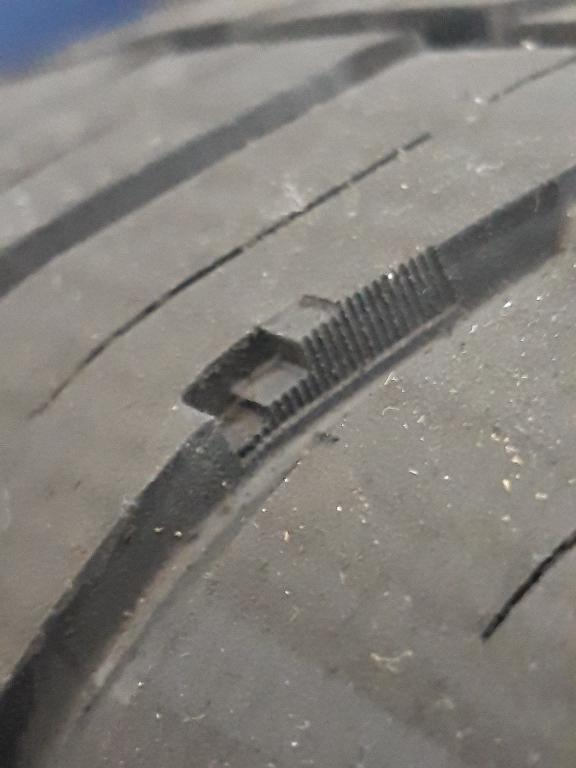temoin:50: (166, 282, 392, 487)
